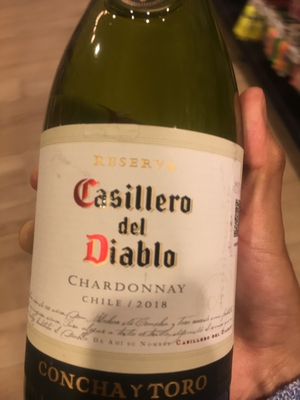casillero del diablo chardonnay: (32, 13, 246, 400)
